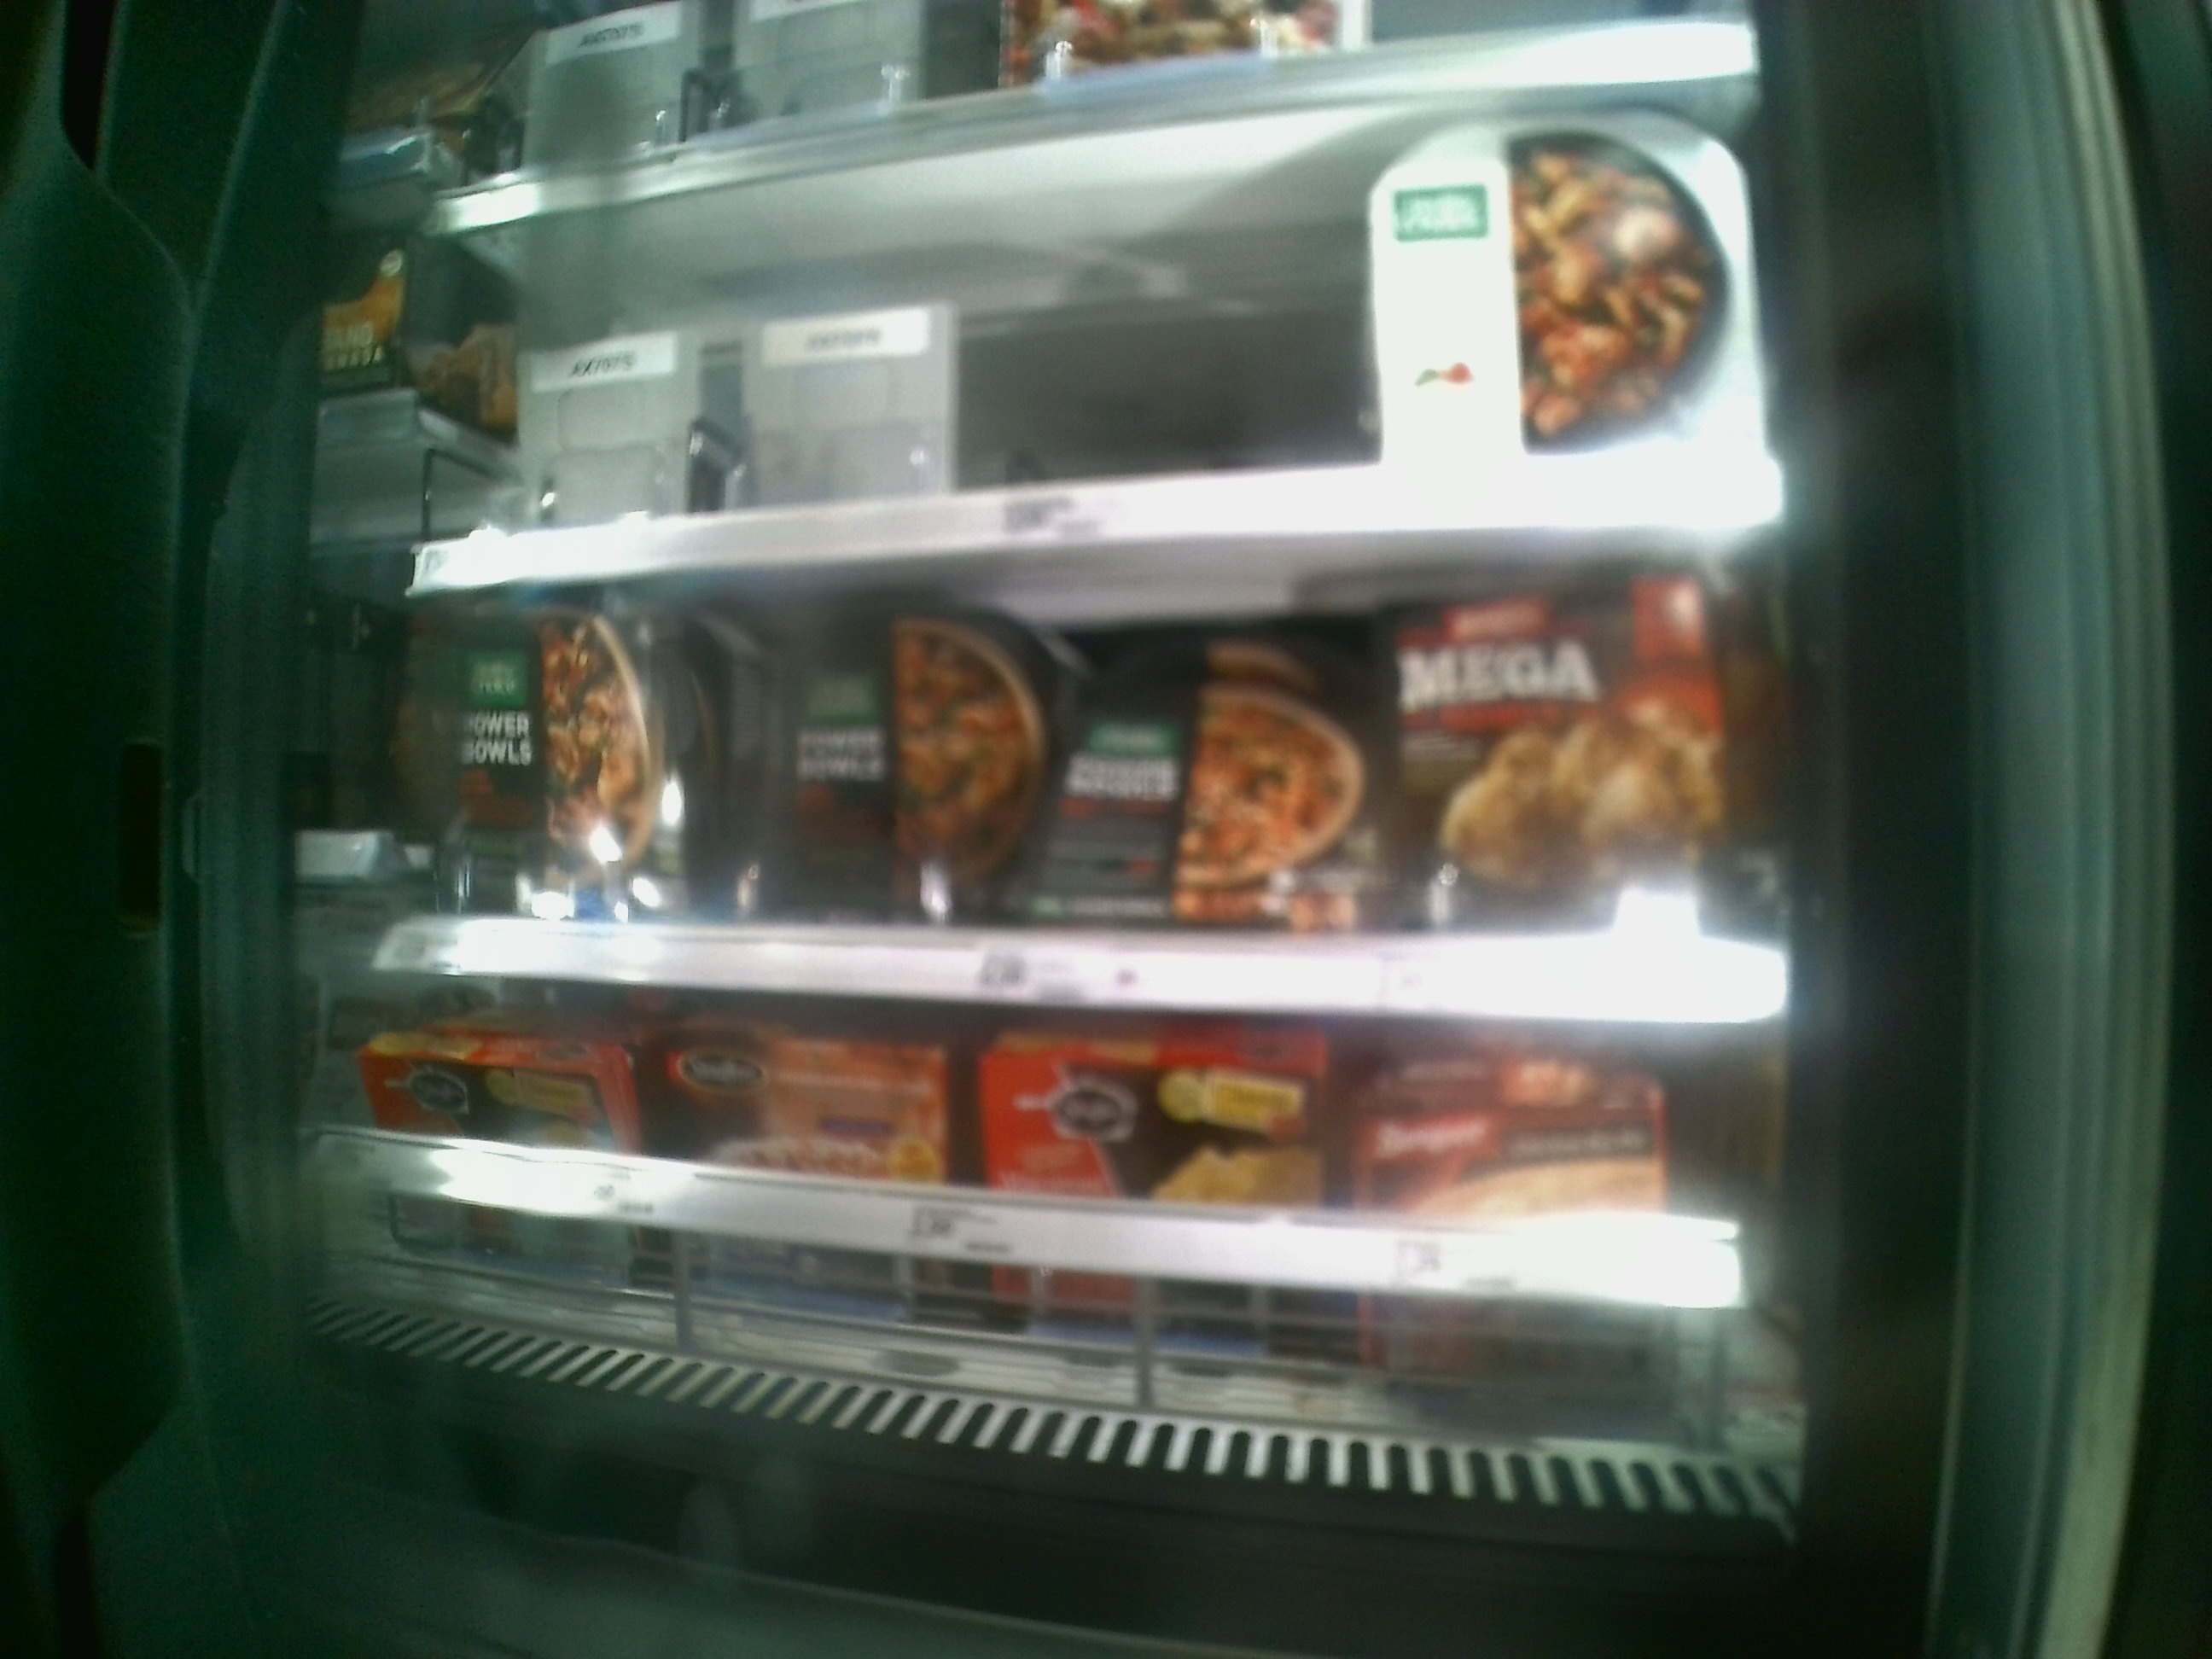Shelf: (388, 535, 1780, 1018), (347, 979, 1785, 1422)
